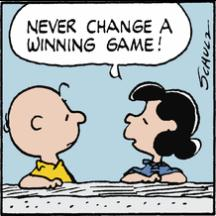charlie: (2, 80, 90, 188)
